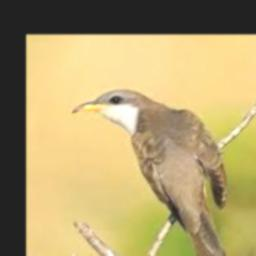Cuckoo: (72, 90, 239, 256)
